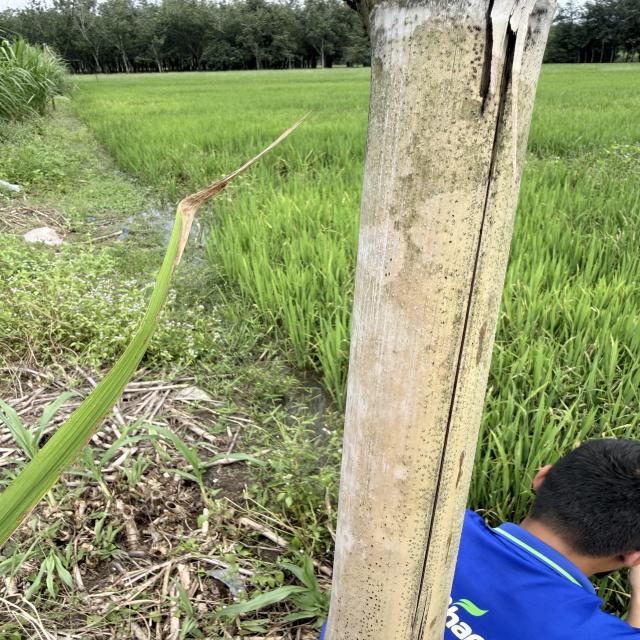Chay bia la: (174, 110, 318, 277)
